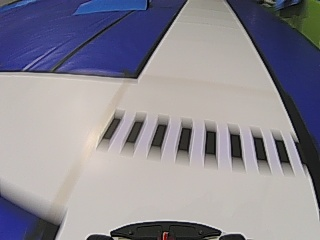CrossWalk: (105, 118, 293, 160)
